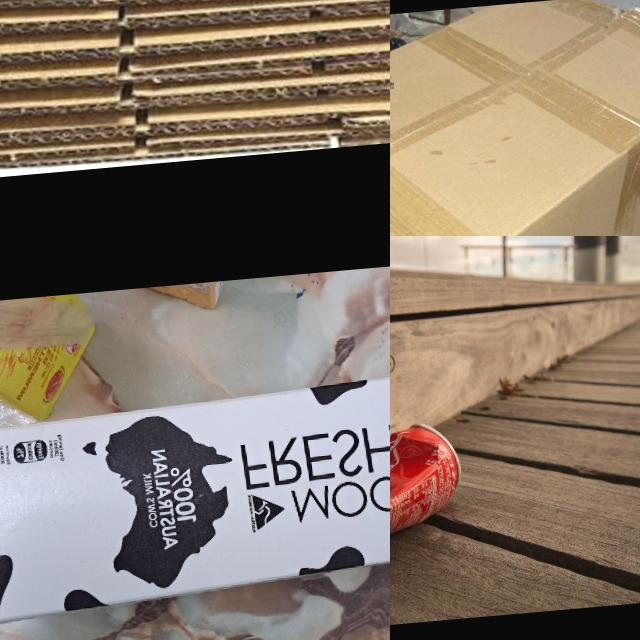caixinha: (0, 361, 390, 628), (0, 292, 107, 432), (104, 280, 245, 318)
lata: (390, 417, 469, 570)
papelão: (0, 0, 390, 185), (390, 0, 640, 236)
